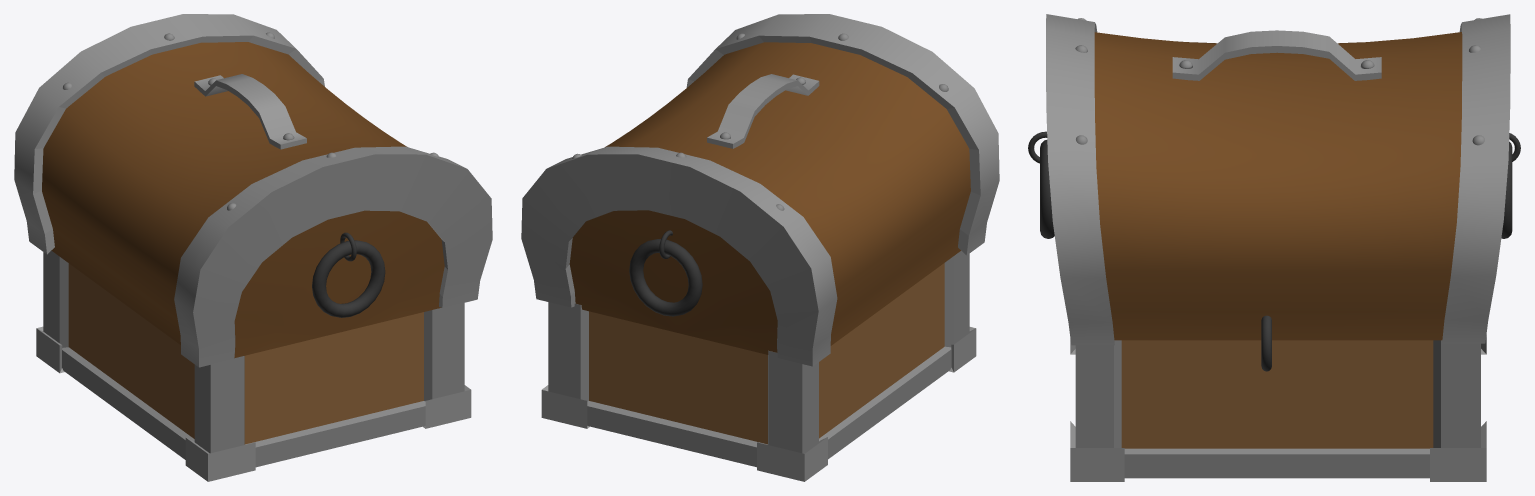
The model's file is Chest.FBX.
The picture shows the model from 3 angles, left to right: view 1: azimuth 30°, elevation 25°; view 2: azimuth 150°, elevation 25°; view 3: azimuth 270°, elevation 25°; orthographic projection. The views are drawn at different scales.
Visible parts, largest first — view 1: Cylinder002, Object005; view 2: Cylinder002, Object006; view 3: Cylinder002, Object005, Object006, Object007.
Boxes of the visible parts, box(x1,y1,x2,y2) form: Cylinder002: box(14, 14, 492, 481); Object005: box(312, 240, 385, 317); Cylinder002: box(521, 14, 999, 481); Object006: box(629, 239, 702, 316); Cylinder002: box(1046, 14, 1510, 481); Object005: box(1040, 140, 1054, 238); Object006: box(1501, 141, 1512, 238); Object007: box(1261, 315, 1271, 371).
Bounding box in the file's own units: 5.59 × 5.36 × 6.58.
